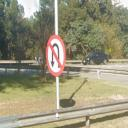NoVirarU: (46, 34, 66, 76)
